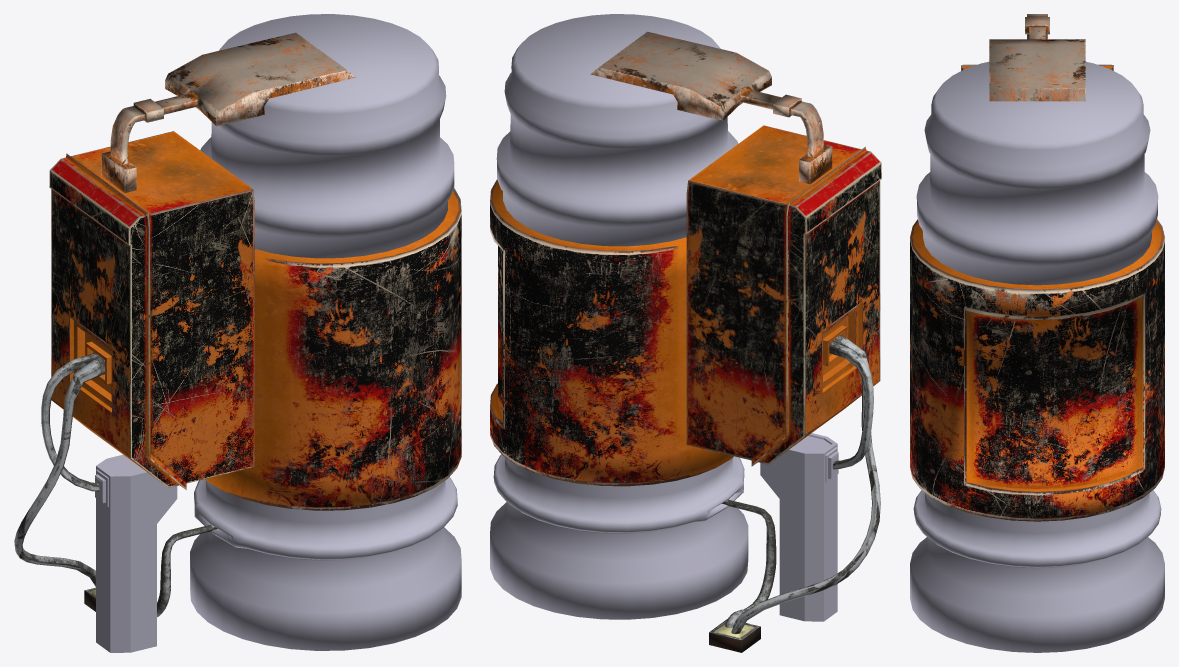
Rendered from MaquinaCentral.fbx.
The picture shows the model from 3 angles, left to right: view 1: azimuth 30°, elevation 25°; view 2: azimuth 150°, elevation 25°; view 3: azimuth 270°, elevation 25°; orthographic projection. The views are drawn at different scales.
Parts seen in each view (by area): view 1: BaseCentral, PlacaTrasera, FundaExterior, Techo, Cargador, Cables2, Cable; view 2: BaseCentral, PlacaTrasera, FundaExterior, Techo, Cargador, Cables2, Cable, TomaTierra; view 3: BaseCentral, FundaExterior, Techo.
Boxes of the visible parts, bbox=[...] form: BaseCentral: bbox=[190, 14, 461, 650]; PlacaTrasera: bbox=[49, 131, 254, 489]; FundaExterior: bbox=[205, 188, 461, 510]; Techo: bbox=[101, 32, 355, 192]; Cargador: bbox=[95, 454, 177, 652]; Cables2: bbox=[14, 353, 104, 586]; Cable: bbox=[157, 525, 217, 617]; BaseCentral: bbox=[490, 14, 748, 619]; PlacaTrasera: bbox=[686, 125, 881, 466]; FundaExterior: bbox=[490, 179, 733, 486]; Techo: bbox=[590, 31, 832, 184]; Cargador: bbox=[760, 433, 838, 621]; Cables2: bbox=[731, 334, 880, 633]; Cable: bbox=[722, 499, 776, 627]; TomaTierra: bbox=[709, 619, 760, 652]; BaseCentral: bbox=[910, 61, 1164, 652]; FundaExterior: bbox=[910, 219, 1164, 521]; Techo: bbox=[989, 14, 1085, 101].
Size of the model in its own units: 803 by 1039 by 466.
